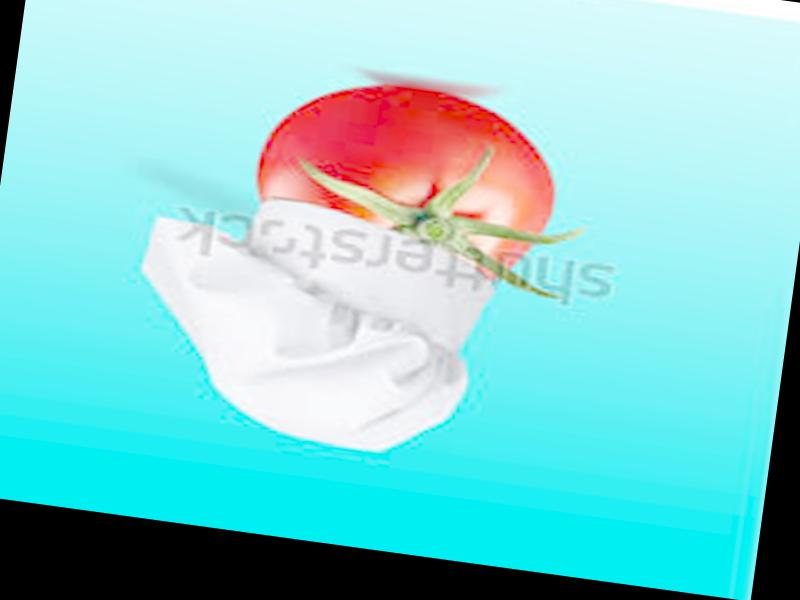Tomato: (246, 70, 561, 287)
